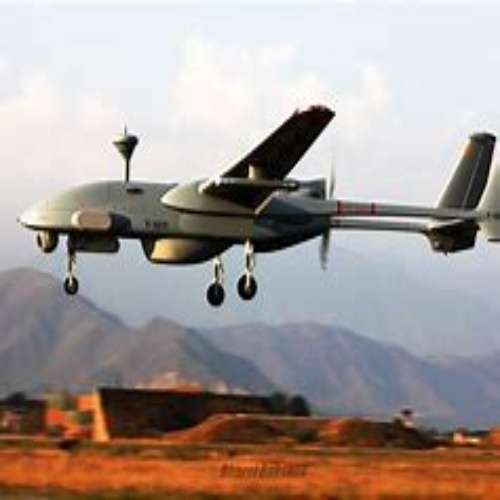uav: (7, 107, 500, 307)
